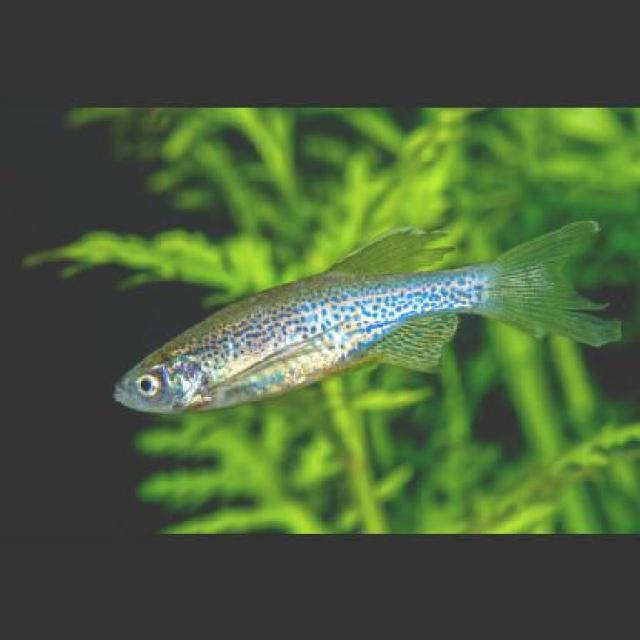ZebraFish: (120, 213, 622, 415)
